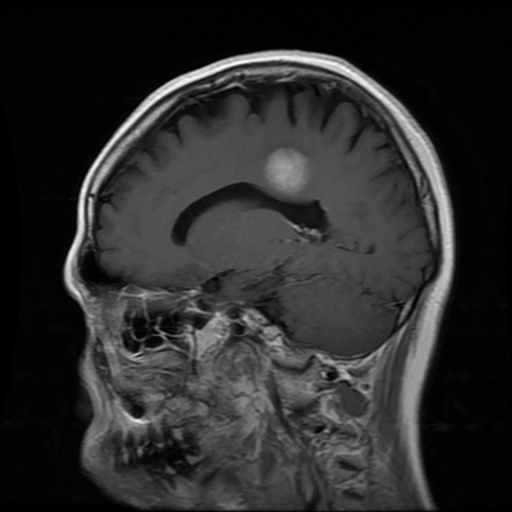meningioma: (265, 147, 311, 194)
